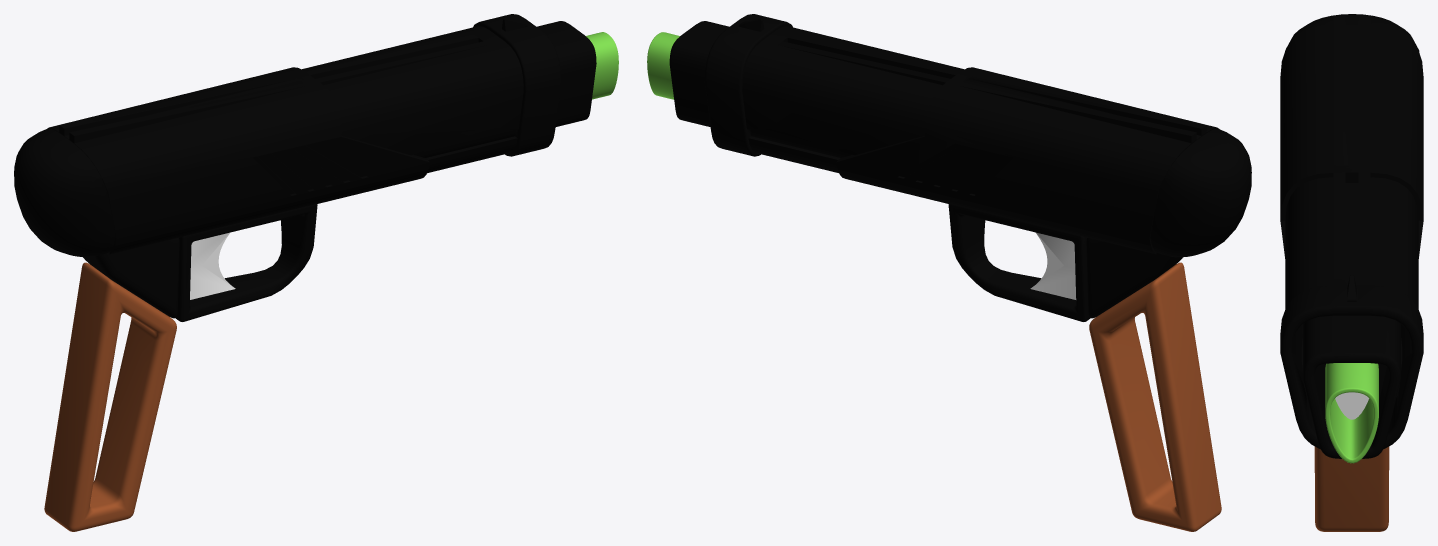
File: silah.fbx
3 views of the same model, side by side, from view 1: azimuth 30°, elevation 25°; view 2: azimuth 150°, elevation 25°; view 3: azimuth 270°, elevation 25° (orthographic). The views are drawn at different scales.
Parts seen in each view (by area): view 1: Box005; view 2: Box005; view 3: Box005.
Boxes of the visible parts, <box> form: Box005: <box>14,14,618,531</box>; Box005: <box>647,14,1251,531</box>; Box005: <box>1280,14,1423,531</box>.
Size of the model in its own units: 29.19 by 18.79 by 4.95.
